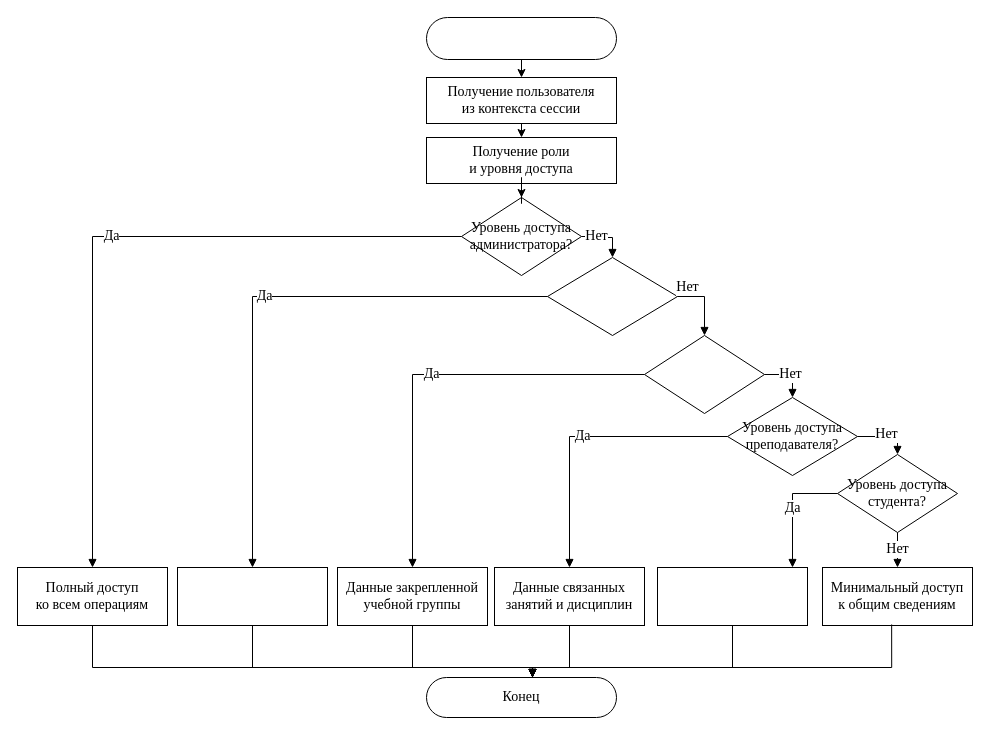
The diagram is 990 pixels wide and 735 high, and some of its shapes have lost their labels. Here are the shapes that lost their labels. From the top down, the box of each, then its label:
(426, 16, 616, 60): Начало:
(546, 256, 678, 336): Уровень доступа сотрудника СтО?
(644, 334, 764, 414): Уровень доступа куратора?
(176, 566, 328, 626): Данные для организационной обработки и отчетности
(656, 566, 808, 626): Только собственные сведения студента
